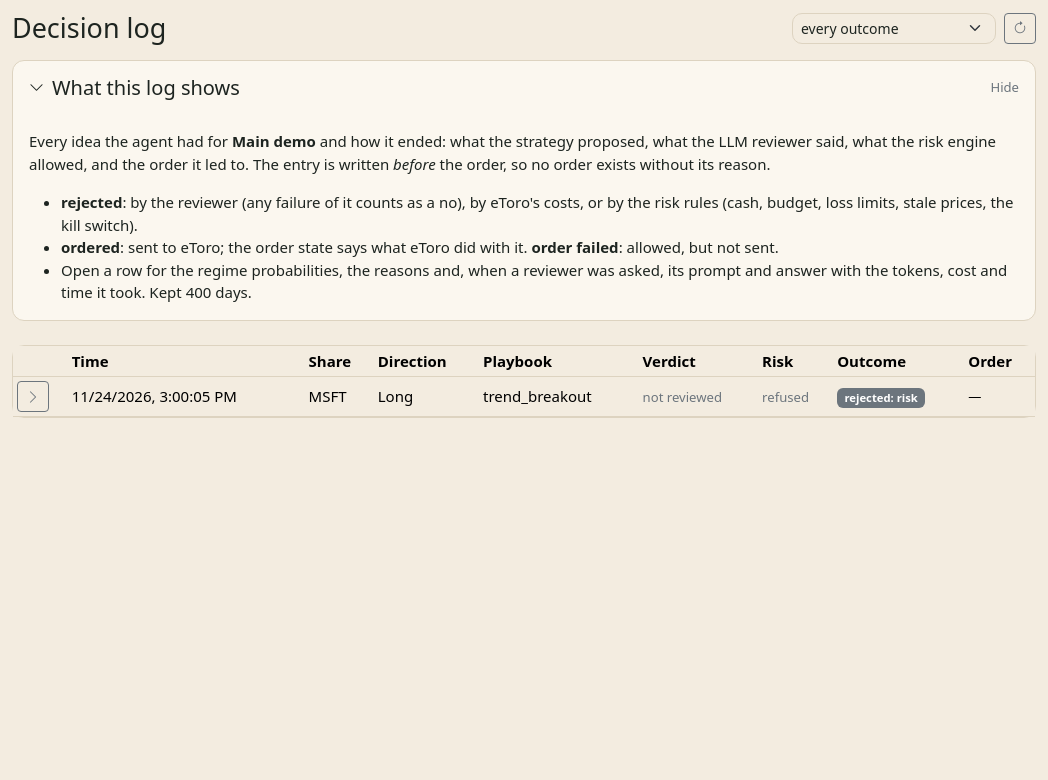
Test: DecisionLog › opens a row without a reviewer call
Expected: the text "MSFT" is shown, [305,377,374,417]
Click the button named "Show the details of MSFT".
click(33, 397)  # box [17,381,49,412]
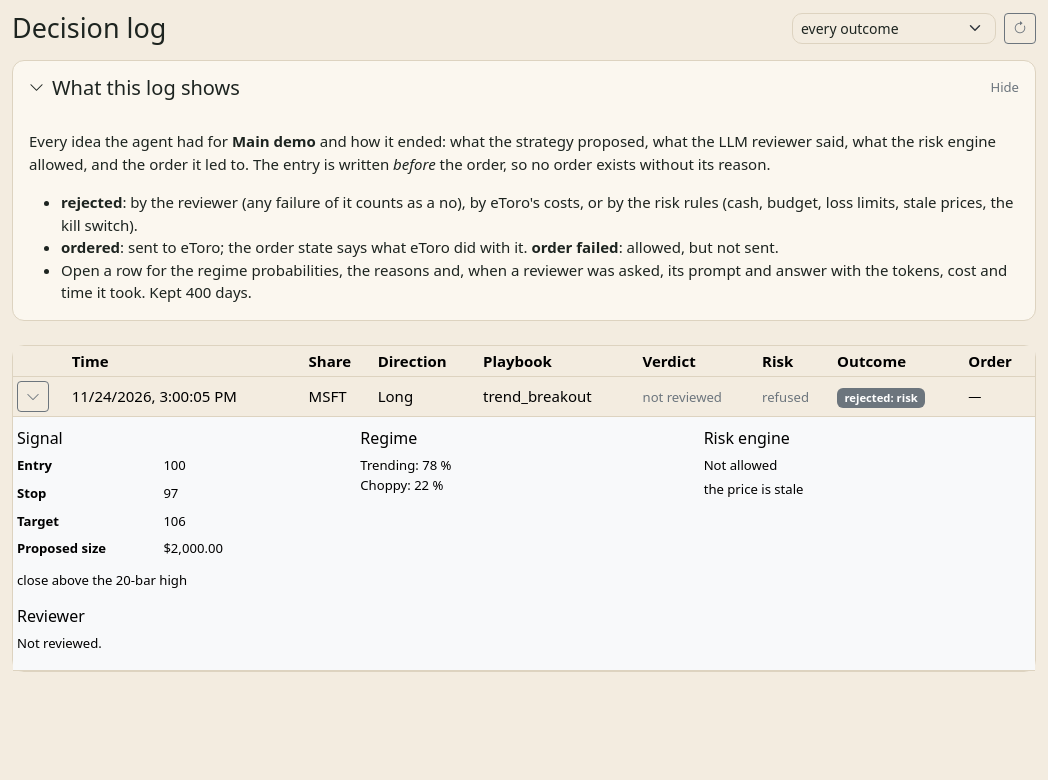
Expected: the text "Not reviewed." is shown, [17,634,102,652]
Expected: the text "the price is stale" is shown, [704,480,804,498]
